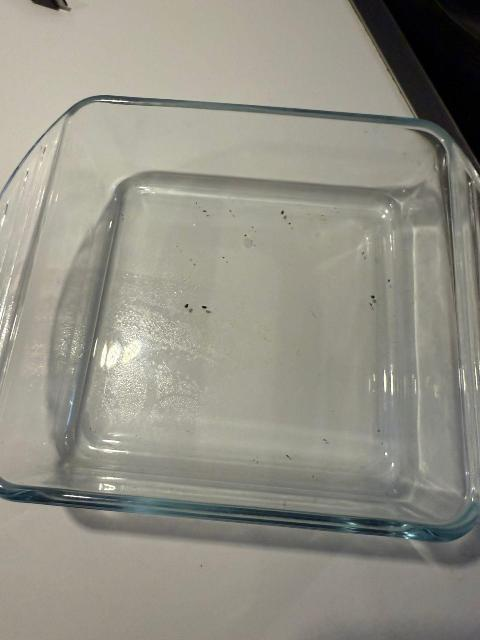Cam: (5, 96, 480, 545), (72, 510, 480, 564)
